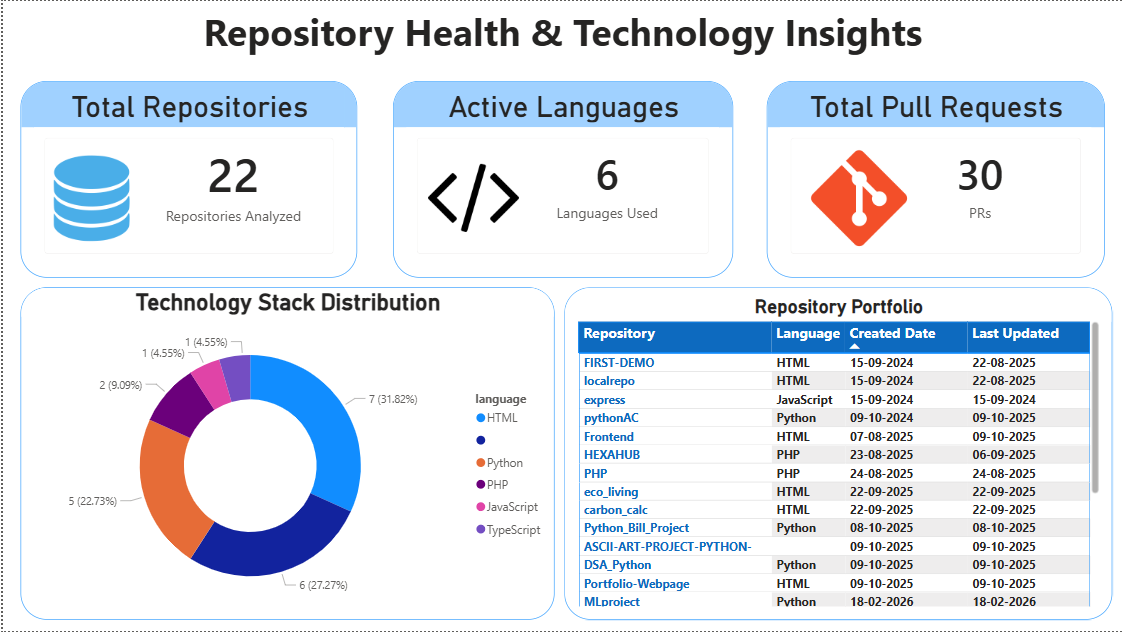

What the dashboard file says about the page in this screenshot:
{"tool":"powerbi","page":{"name":"Repository Health","canvas":[1280,720],"ordinal":2},"visuals":[{"type":"donutChart","title":"Technology Stack Distribution","fields":{"Category":["repository_health.language"],"Y":["CountNonNull(repository_health.name)"]},"box":[20,327.5,610,380],"z":0},{"type":"textbox","box":[0,0,1280,66.7],"z":1000},{"type":"cardVisual","title":"Total Repositories","fields":{"Data":["CountNonNull(repository_health.name)"]},"box":[20,91.2,385,225],"z":2000},{"type":"cardVisual","title":"Active Languages","fields":{"Data":["Count(repository_health.language)"]},"box":[446.2,91.2,388.8,225],"z":3000},{"type":"cardVisual","title":"Total Pull Requests","fields":{"Data":["Sum(contributor_ranking.total_prs)"]},"box":[872.5,91.2,386.2,225],"z":4000},{"type":"image","box":[46.2,151.2,111.2,147.5],"z":5000},{"type":"image","box":[922.5,151.2,111.2,147.5],"z":6000},{"type":"image","box":[486.2,151.2,103.8,147.5],"z":7000},{"type":"tableEx","title":"Repository Portfolio","fields":{"Values":["repository_health.name","repository_health.language","repository_health.created_at","repository_health.updated_at"]},"box":[641.2,327.5,626.2,380],"z":8000}]}

Visuals, with their boxes in screenshot pixels (x1, y1, x2, y2), scaled from the page's 1280x720 canvas onto the 1123x632 screenshot:
"Technology Stack Distribution" donutChart: rect(18, 287, 553, 621)
textbox: rect(0, 0, 1122, 59)
"Total Repositories" cardVisual: rect(18, 80, 355, 278)
"Active Languages" cardVisual: rect(391, 80, 733, 278)
"Total Pull Requests" cardVisual: rect(765, 80, 1104, 278)
image: rect(41, 133, 138, 262)
image: rect(809, 133, 907, 262)
image: rect(427, 133, 518, 262)
"Repository Portfolio" tableEx: rect(563, 287, 1112, 621)
